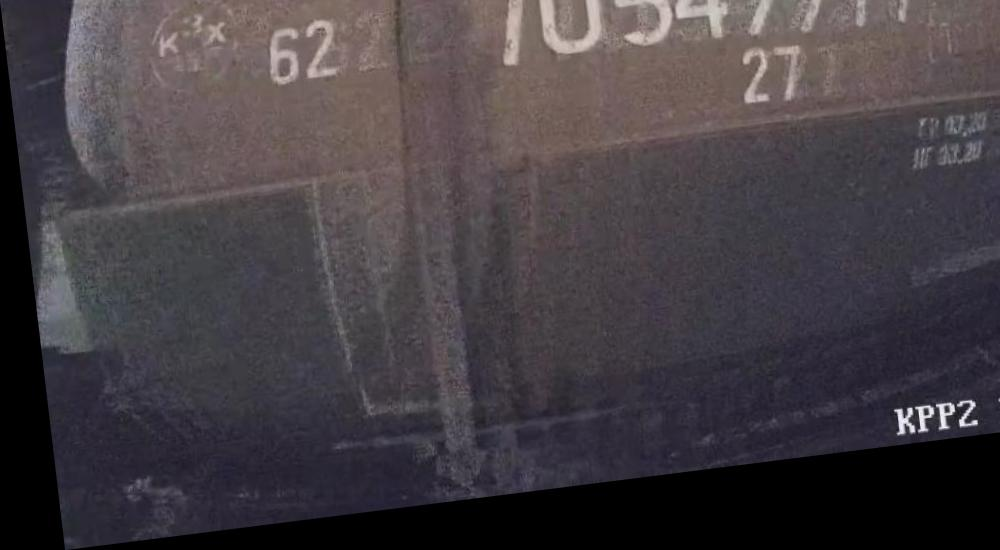Wagon-number: (456, 0, 919, 99)
